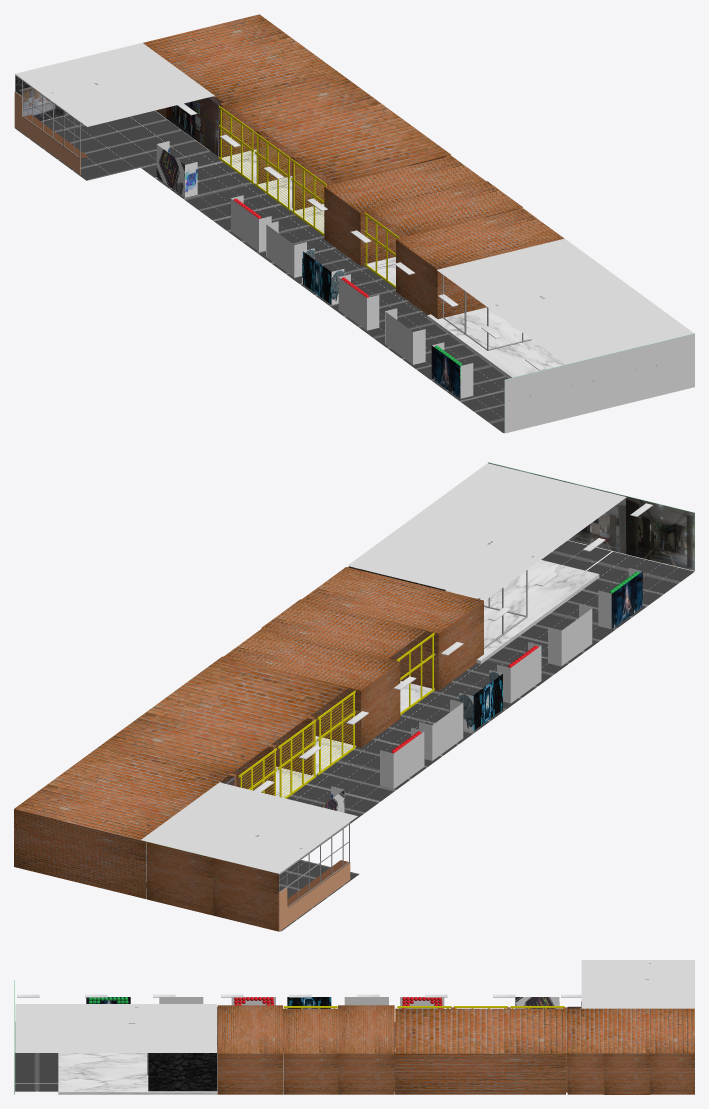
The model's file is PasilloFI.obj.
3 views of the same model, one above another, from view 1: azimuth 30°, elevation 25°; view 2: azimuth 150°, elevation 25°; view 3: azimuth 270°, elevation 25° (orthographic). The views are drawn at different scales.
Parts seen in each view (by area): view 1: Techo_SalaExamenes, Techo01, PisoPrincipal, Techo003, Plane023, MuroRojo06, MuroRojo07, PisoPrincipal001, Techo004, Piso01, CaraInd, CaraInd002 (+15 smaller); view 2: Techo_SalaExamenes, Techo01, PisoPrincipal, Techo003, Plane023, MuroRojo06, MuroRojo07, CaraSinTextura003, Piso01, Techo004, Fondo_Pasillo005, CaraSinTextura005 (+13 smaller); view 3: Techo_SalaExamenes, Techo01, MuroRojo04, Techo003, MuroRojo06, Plane023, MuroRojo07, Piso007, Pared_PiedraCalizaNegra, Techo004, MuroRojo05, CaraSinTextura (+9 smaller).
Part boxes in pixels (x1,y1,x2,y2): Techo_SalaExamenes: (437,238,693,364); Techo01: (229,75,450,183); PisoPrincipal: (140,151,508,432); Techo003: (143,14,343,106); Plane023: (15,42,214,126); MuroRojo06: (396,208,563,318); MuroRojo07: (324,155,485,265); PisoPrincipal001: (14,110,209,180); Techo004: (370,181,522,235); Piso01: (427,307,574,378); CaraInd: (504,364,568,433); CaraInd002: (631,333,694,402); Techo_SalaExamenes: (347,463,626,599); Techo01: (104,656,348,773); PisoPrincipal: (287,551,694,859); Techo003: (14,740,234,839); Plane023: (141,782,357,873); MuroRojo06: (302,567,483,690); MuroRojo07: (223,628,400,747); CaraSinTextura003: (14,809,146,898); Piso01: (475,560,599,663); Techo004: (261,599,426,658); Fondo_Pasillo005: (625,496,694,570); CaraSinTextura005: (212,858,278,931); Techo_SalaExamenes: (15,1004,216,1052); Techo01: (395,1008,565,1053); MuroRojo04: (395,1052,565,1094); Techo003: (558,1008,694,1053); MuroRojo06: (217,1005,282,1094); Plane023: (581,960,694,1008); MuroRojo07: (338,1005,394,1094); Piso007: (58,1066,217,1094); Pared_PiedraCalizaNegra: (148,1036,217,1091); Techo004: (282,1008,339,1053); MuroRojo05: (283,1053,337,1094); CaraSinTextura: (604,1053,649,1094).
Bounding box in the file's own units: 19.54 × 4.1 × 60.08.
